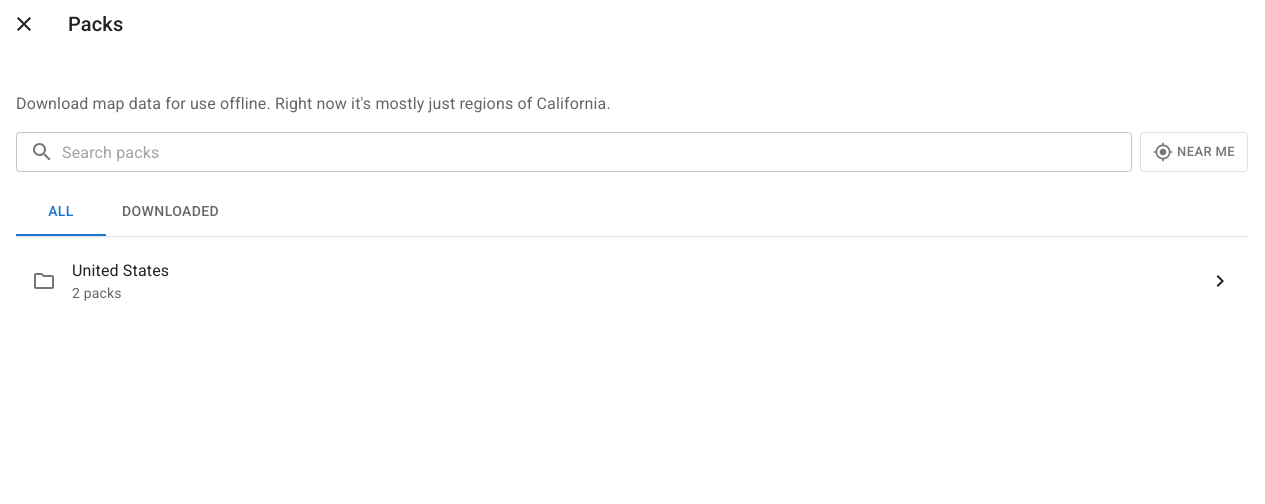
Scenario: Packs › when a pack download fails › says the download failed when it fails for another reason
What coordinates should you click on to do the following:
click the text "United States"
I would click on:
 (121, 270)
Its box is [72,261,169,280].
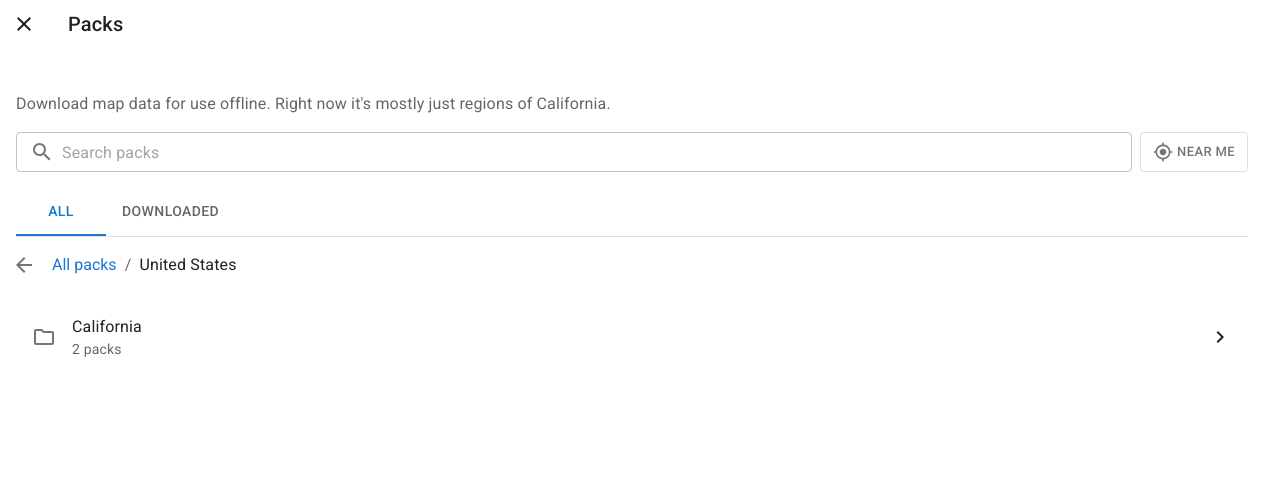
What coordinates should you click on to do the following:
click the text "California"
I would click on:
 (107, 326)
Its box is [72,317,142,336].
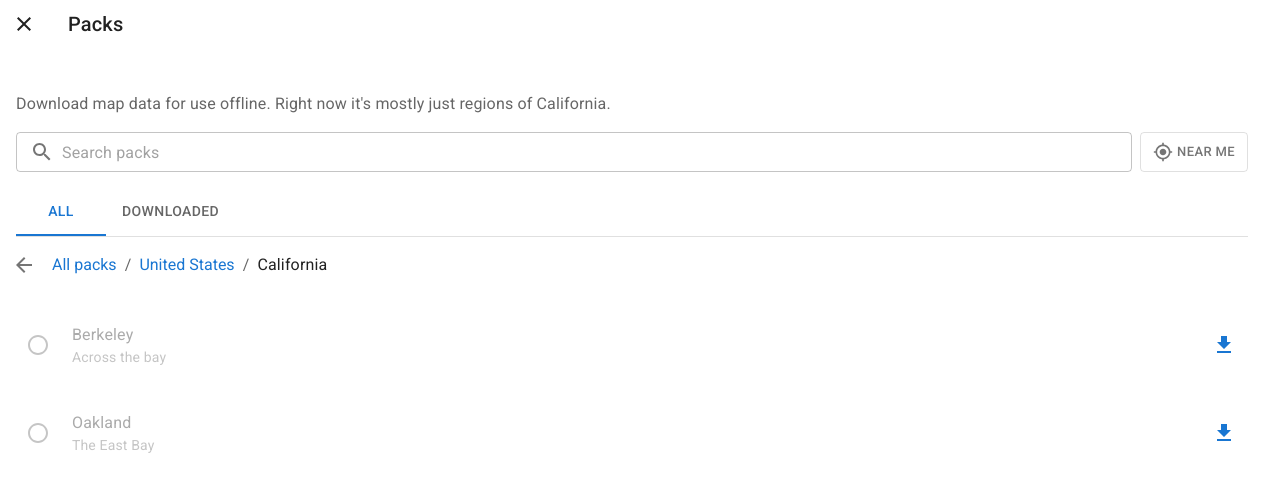
expect the text "Oakland" is shown: met, box [72,413,131,432]
What coordinates should you click on to do the following:
click the 2nd button named "download"
I would click on:
 (1224, 433)
Its box is [1204,413,1244,453].
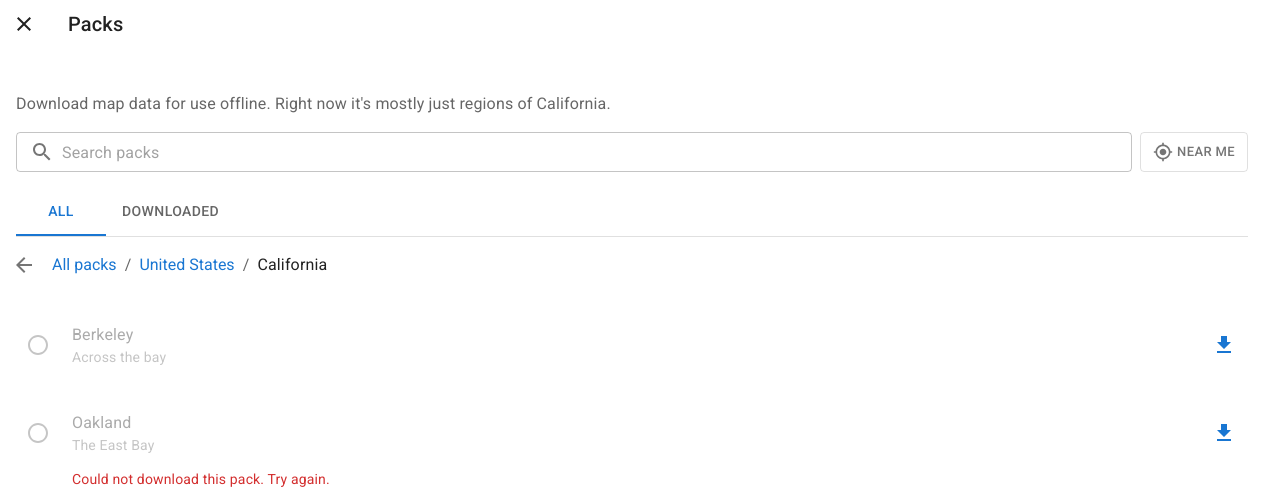
expect the message shows "Could not download": met, box [72,471,330,487]
